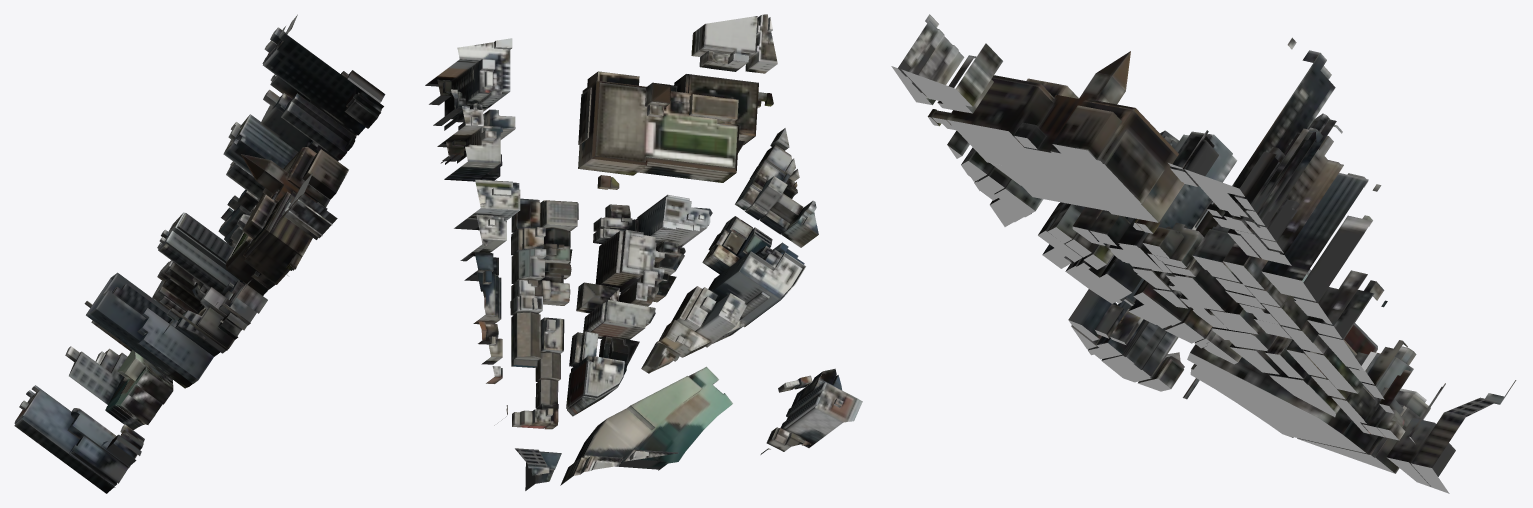
Rendered from 39530_bldg_Building.glb.
3 renders of one model, left to right at view 1: azimuth 30°, elevation 25°; view 2: azimuth 150°, elevation 25°; view 3: azimuth 270°, elevation 25°, orthographic. The views are drawn at different scales.
Bounding box in the file's own units: 170 × 152 × 171.
Materials: 2 (1 with a texture image).
